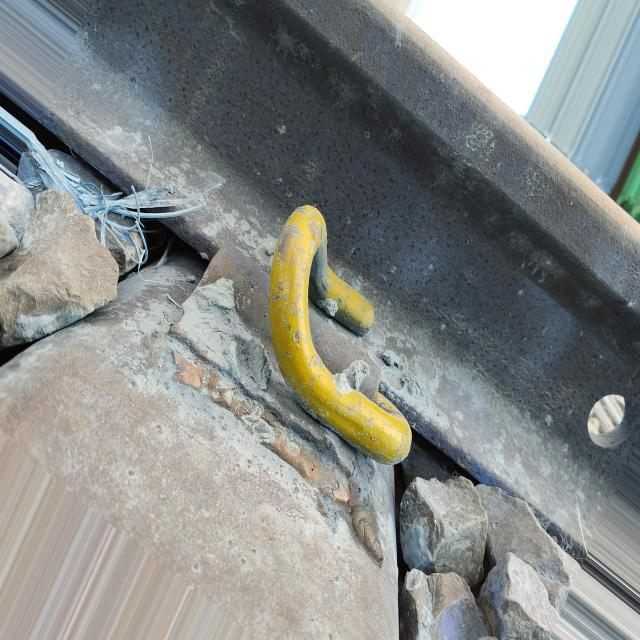Good Fasteners: (165, 175, 429, 522)
